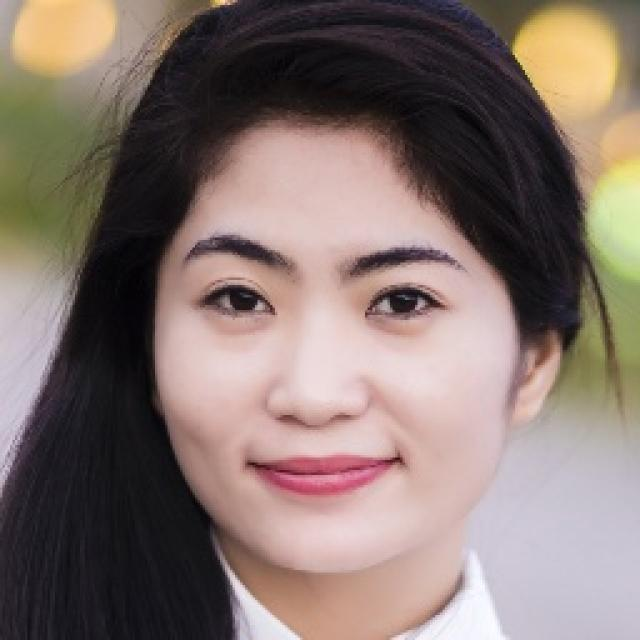earlobe: (512, 321, 564, 429)
